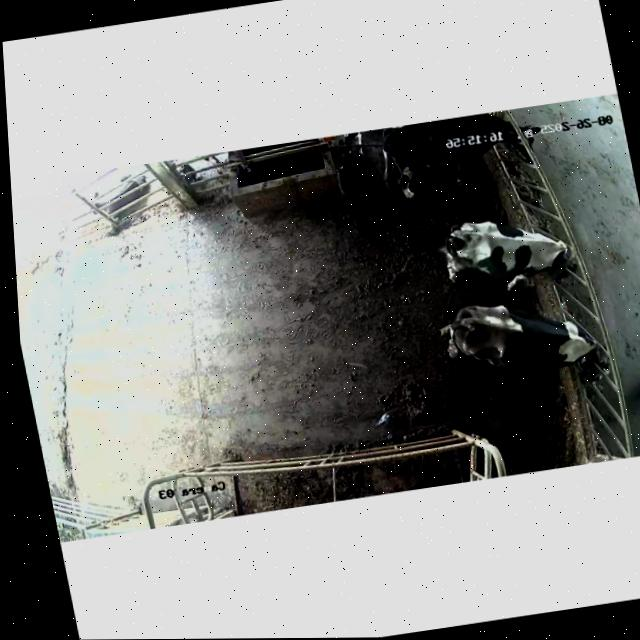eat: (527, 309, 640, 395), (507, 219, 609, 292), (460, 107, 561, 172)
